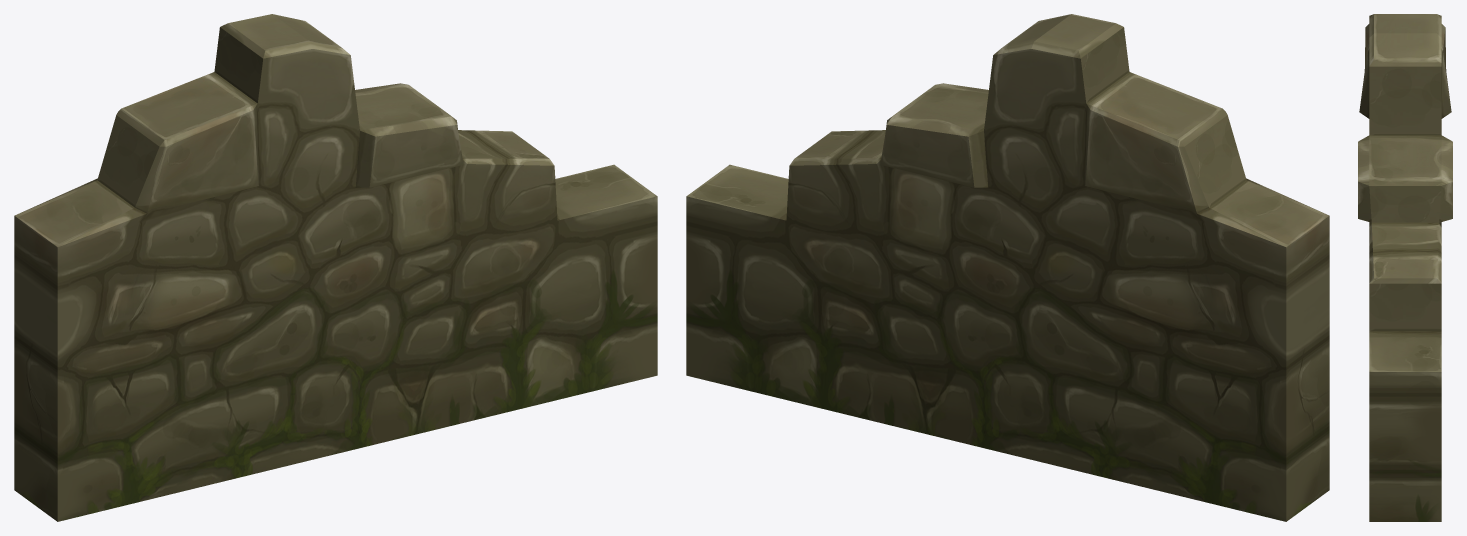
Rendered from Wall_1.FBX.
3 views of the same model, side by side, from view 1: azimuth 30°, elevation 25°; view 2: azimuth 150°, elevation 25°; view 3: azimuth 270°, elevation 25° (orthographic). The views are drawn at different scales.
Parts seen in each view (by area): view 1: Wall_1; view 2: Wall_1; view 3: Wall_1.
Boxes of the visible parts, x1,y1,x2,y2 form: Wall_1: [14, 14, 657, 521]; Wall_1: [686, 14, 1329, 521]; Wall_1: [1358, 14, 1452, 521].
Bounding box in the file's own units: 2 × 1.33 × 0.3272.
